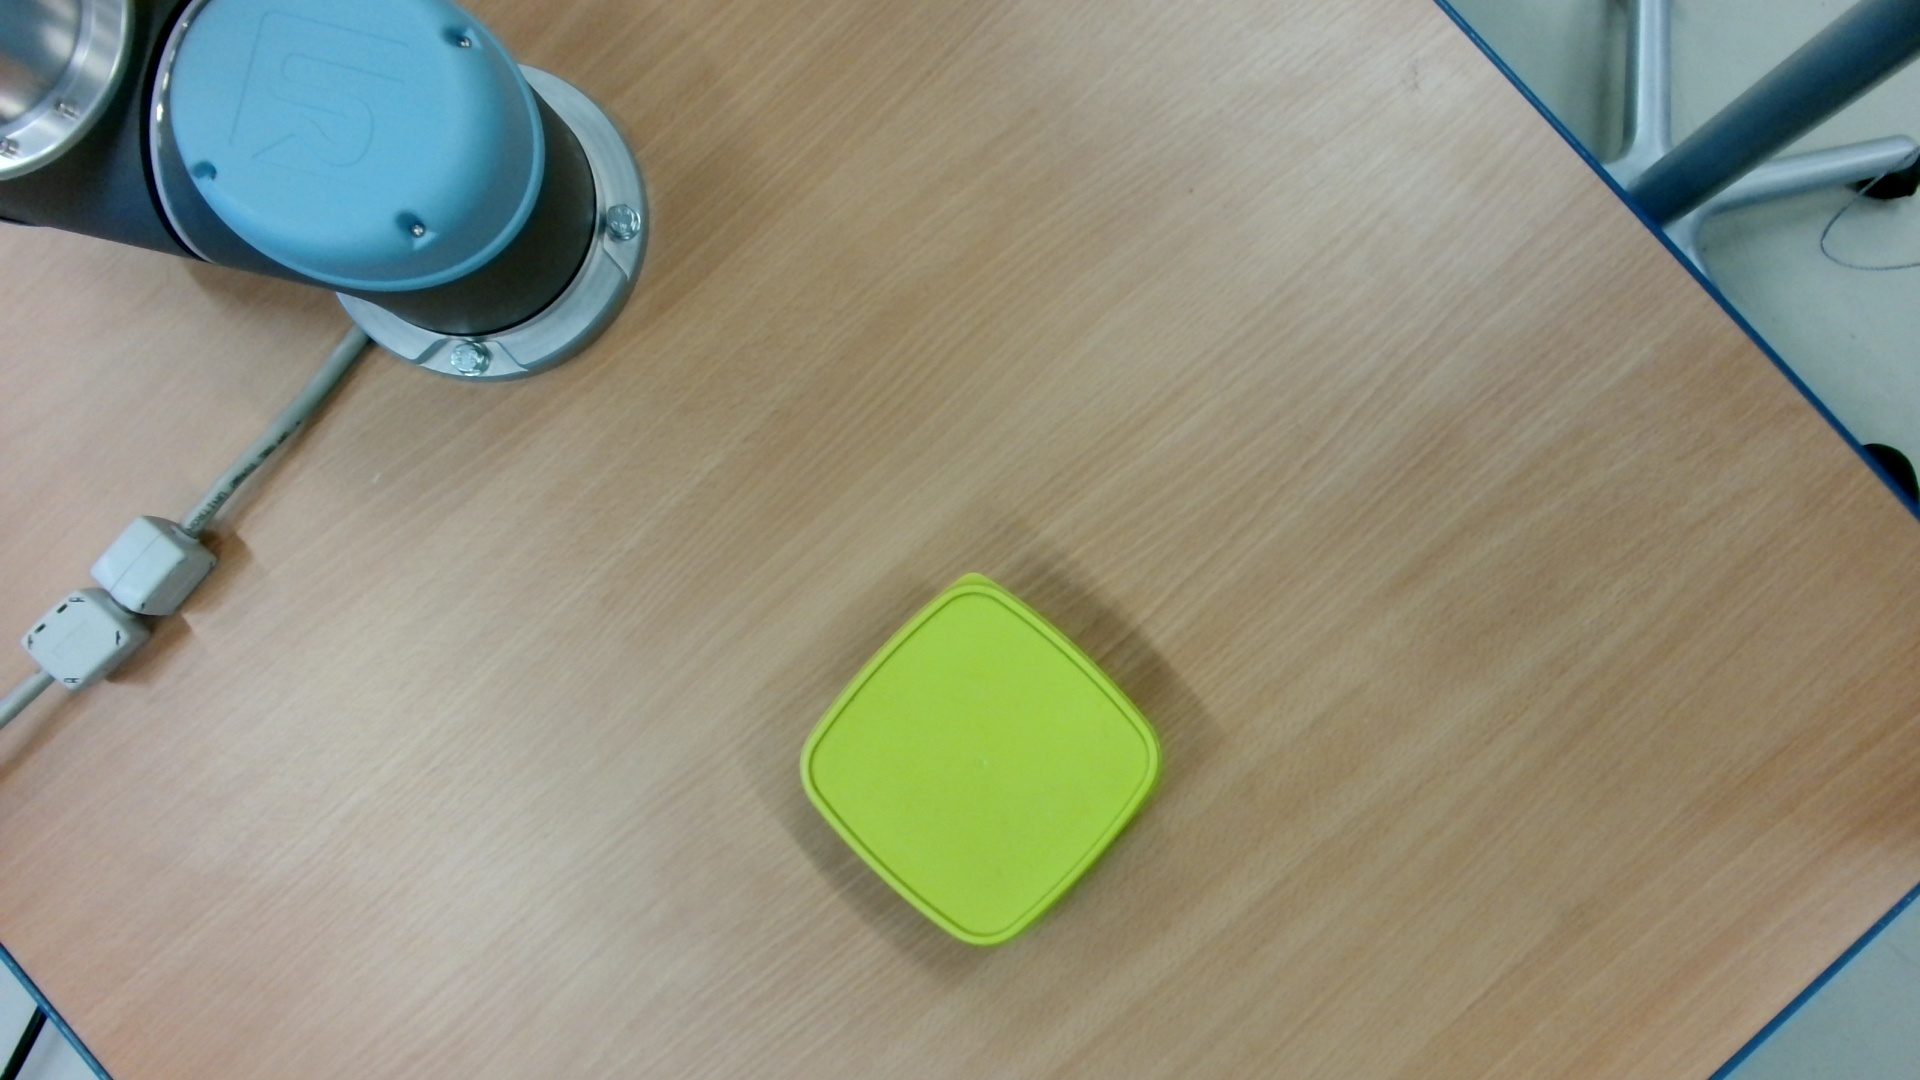Box: (790, 564, 1170, 957)
